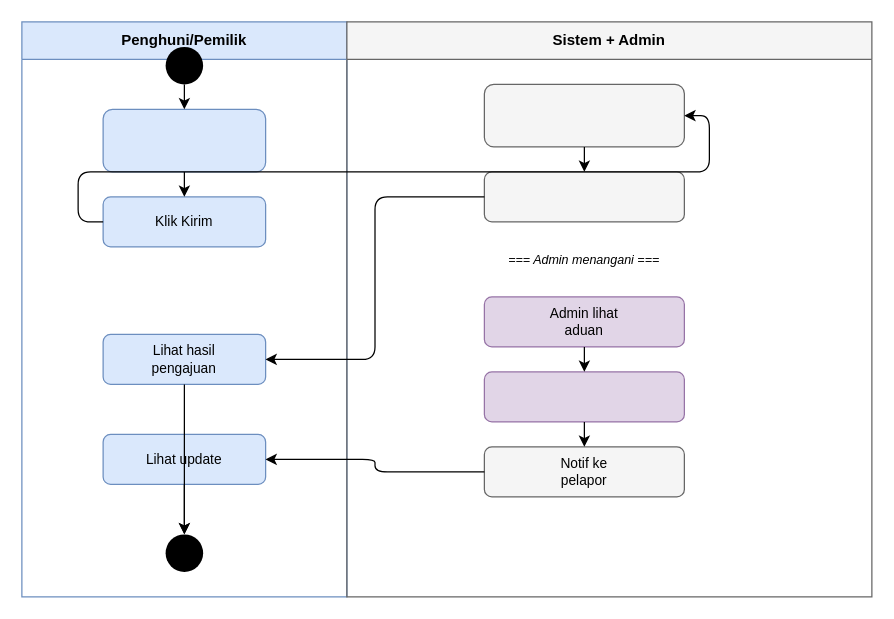
Image size: 894x619. Some labels were removed from this diagram. The shapes that lost their labels are listed below. From the top down, each one's centre as x and y in pixels, then its label:
At (583,115): "Validasi + Simpan aduan = diajukan".
At (184,140): "Isi form aduan (judul, kategori, deskripsi, lampiran)".
At (583,196): "Notif ke admin + response".
At (583,396): "Update status + komentar".
